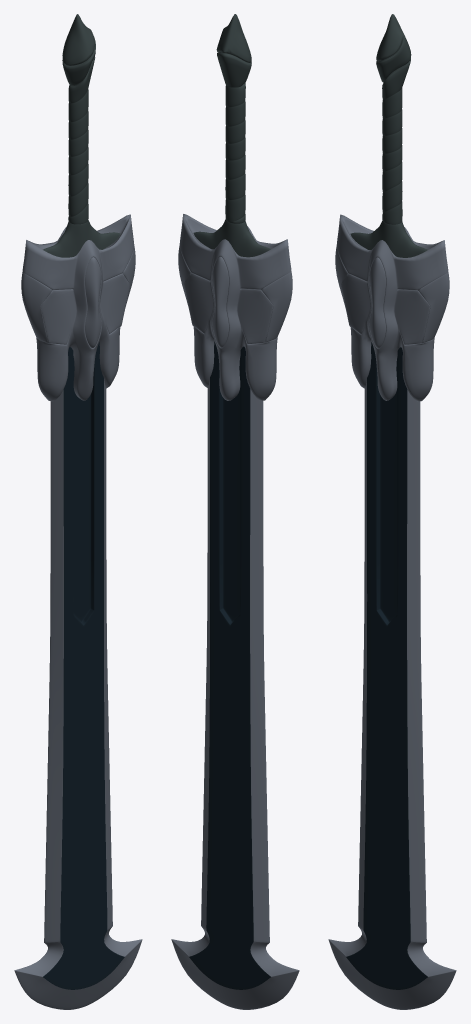
File: Sword.fbx
3 renders of one model, left to right at view 1: azimuth 30°, elevation 25°; view 2: azimuth 150°, elevation 25°; view 3: azimuth 330°, elevation 25°, orthographic.
Parts seen in each view (by area): view 1: Swords.001; view 2: Swords.001; view 3: Swords.001.
Boxes of the visible parts, x1,y1,x2,y2 form: Swords.001: (14,14,142,1009); Swords.001: (171,14,299,1009); Swords.001: (328,14,456,1009).
Size of the model in its own units: 167 by 1236 by 83.22.
